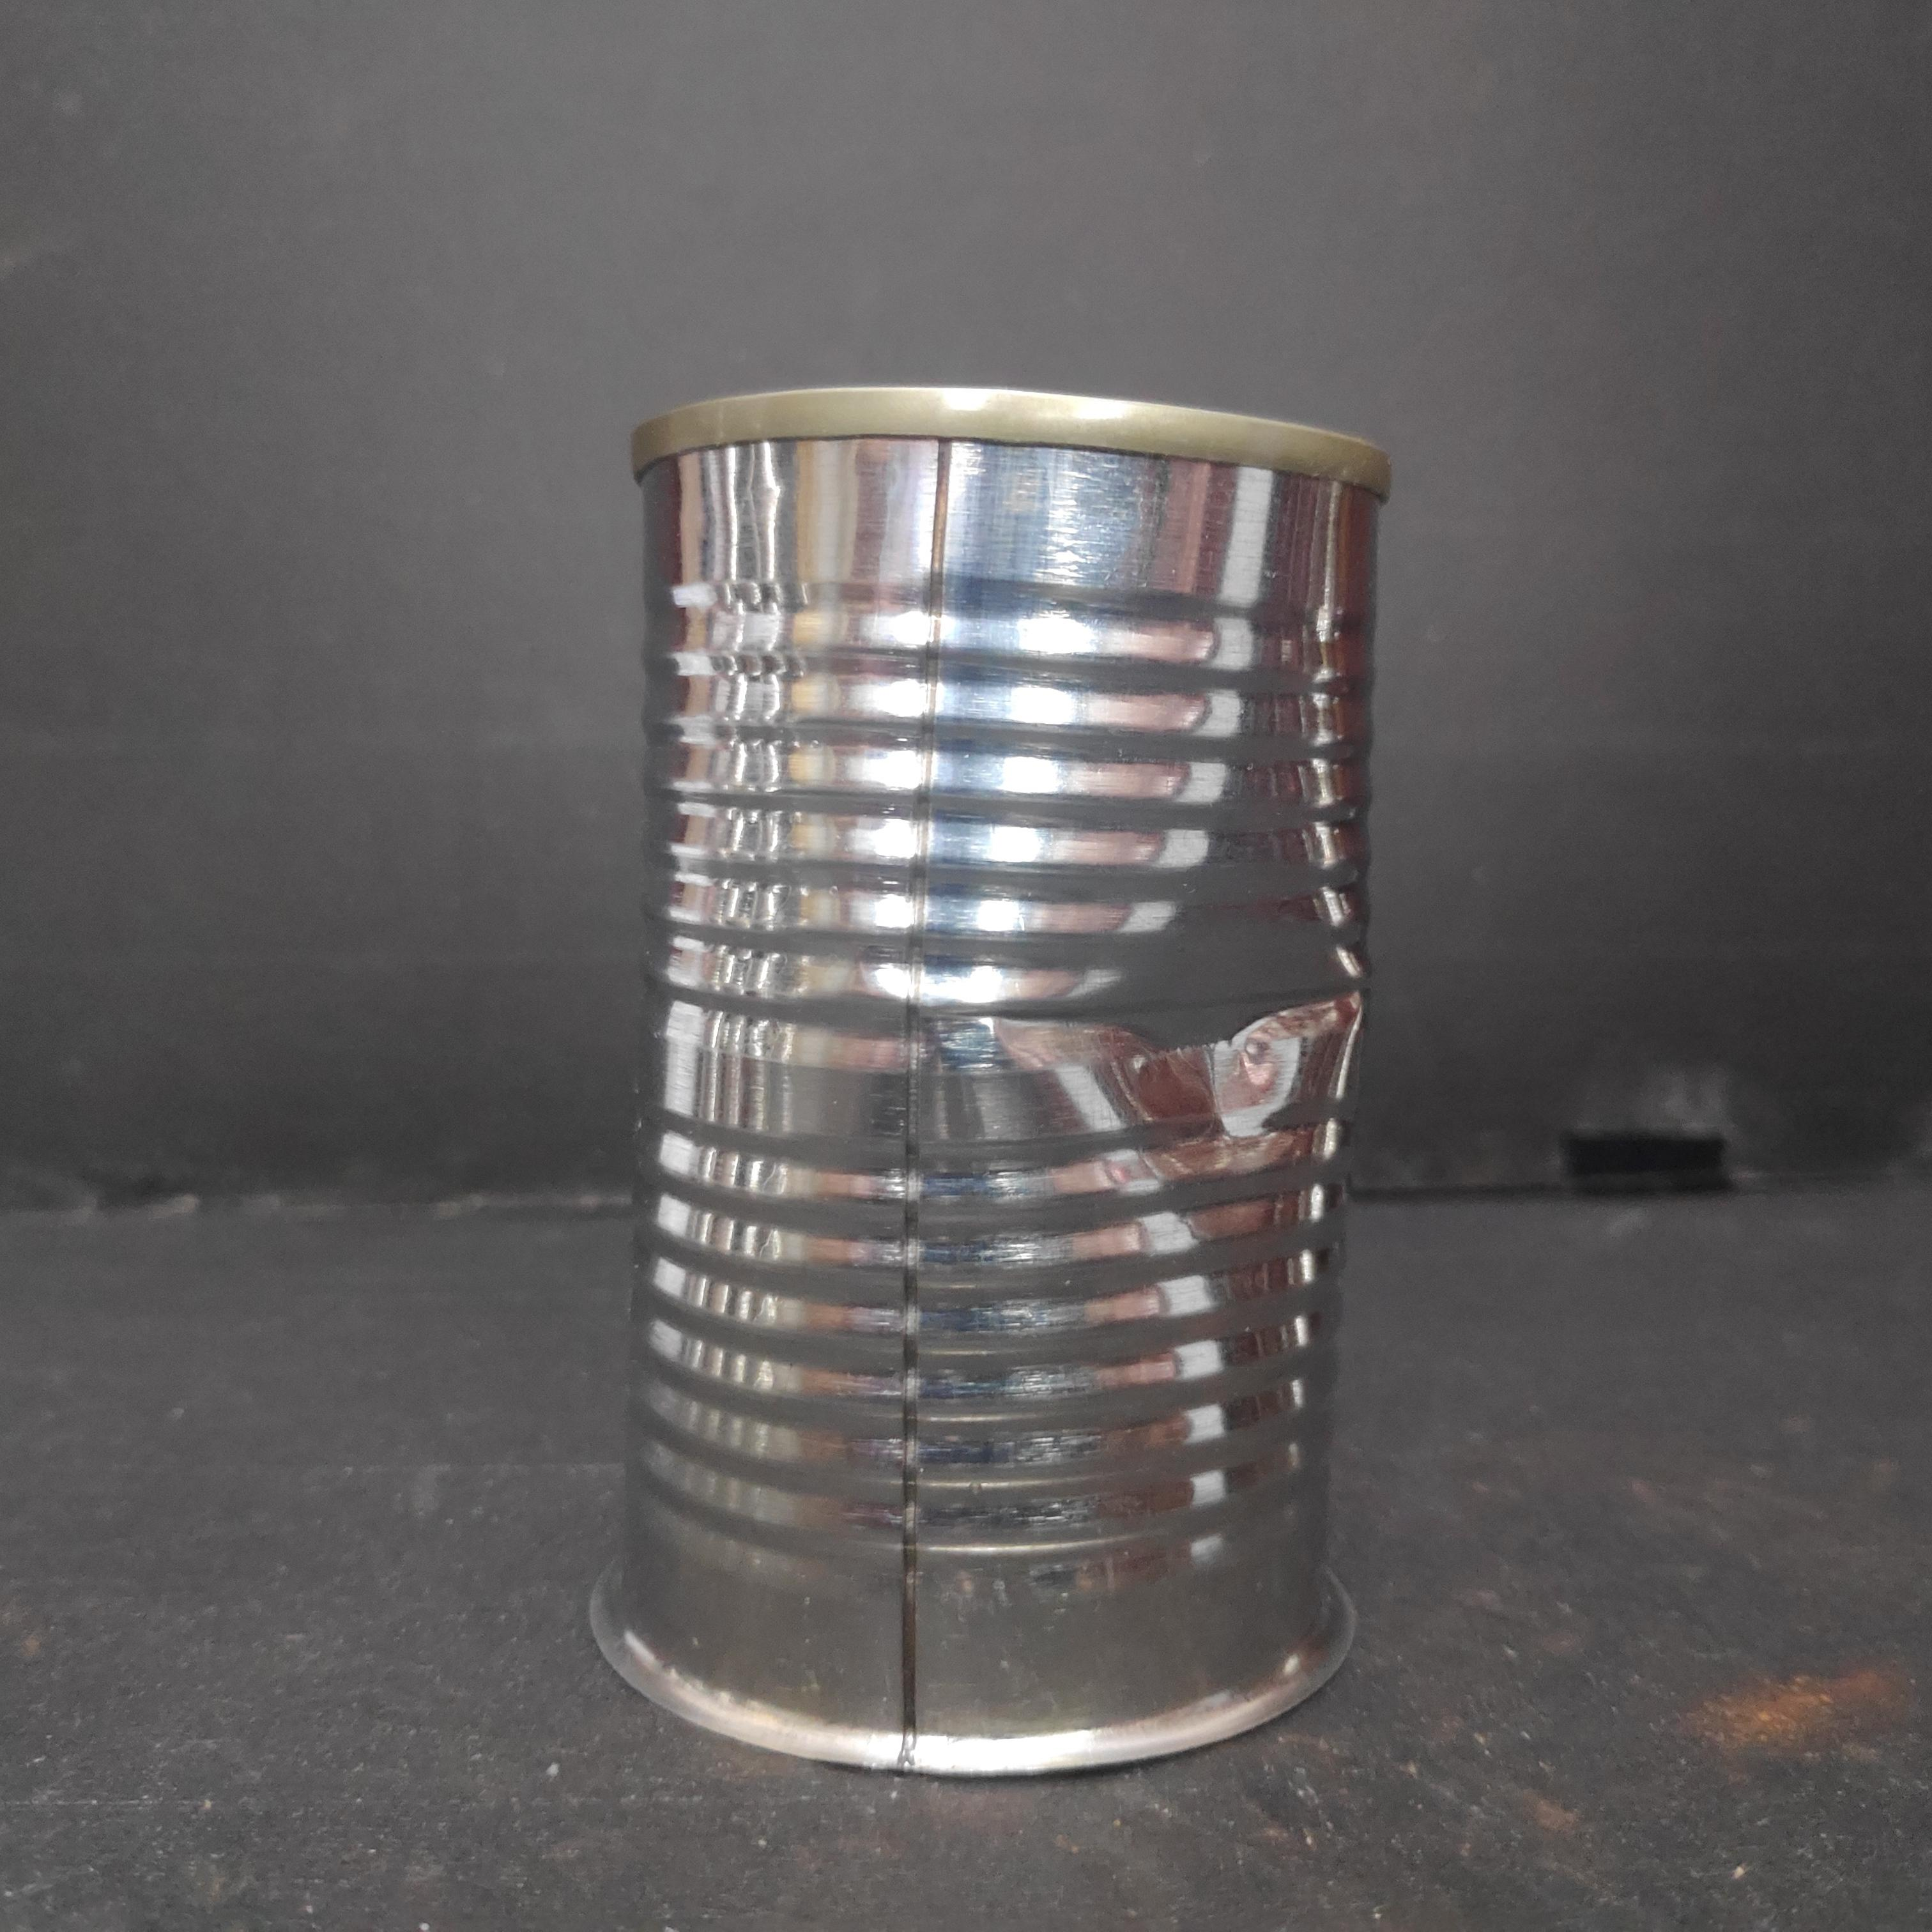Minor Defect: (602, 378, 1413, 1782)
